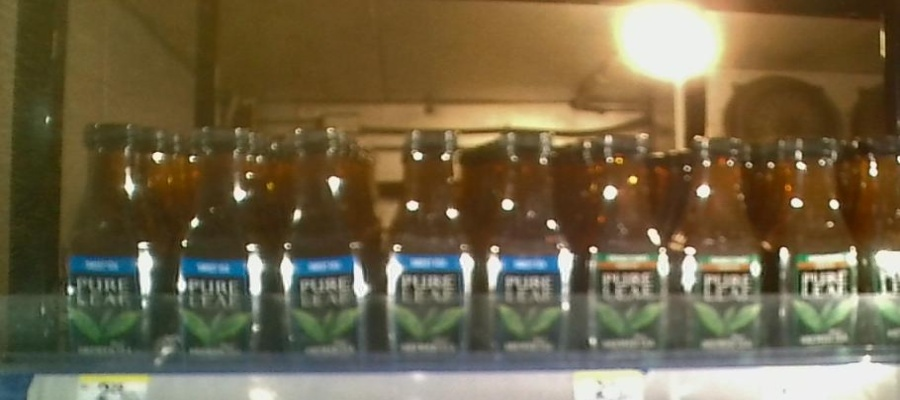bottle: (271, 120, 375, 364), (63, 120, 163, 357), (380, 123, 476, 368), (678, 122, 773, 367), (580, 127, 675, 366), (484, 128, 576, 367), (176, 119, 265, 359), (775, 133, 861, 364), (864, 130, 900, 361)
